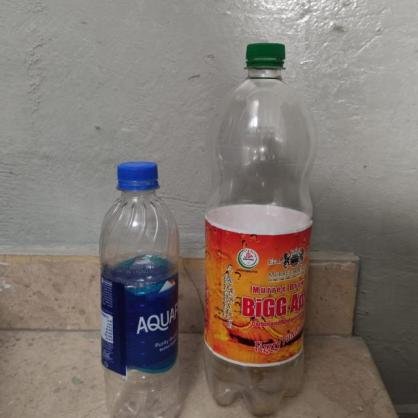bottle: (202, 40, 318, 418), (94, 160, 183, 418)
cap: (244, 39, 290, 72), (116, 162, 160, 194)
label: (210, 212, 309, 364), (99, 265, 179, 376)
